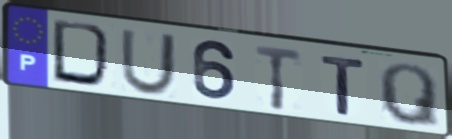6: (190, 38, 238, 105)
D: (50, 17, 118, 92)
Q: (376, 61, 442, 131)
T: (252, 42, 305, 113), (319, 53, 369, 118)
U: (118, 27, 179, 98)
